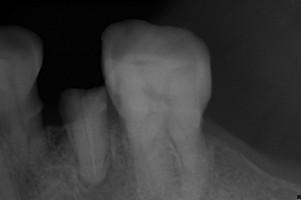Dental Caries: (81, 110, 133, 200)
